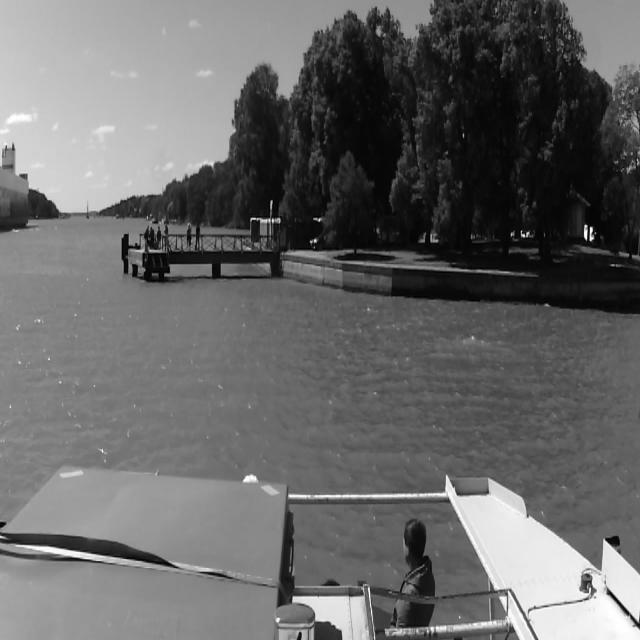ship: (2, 144, 30, 232)
